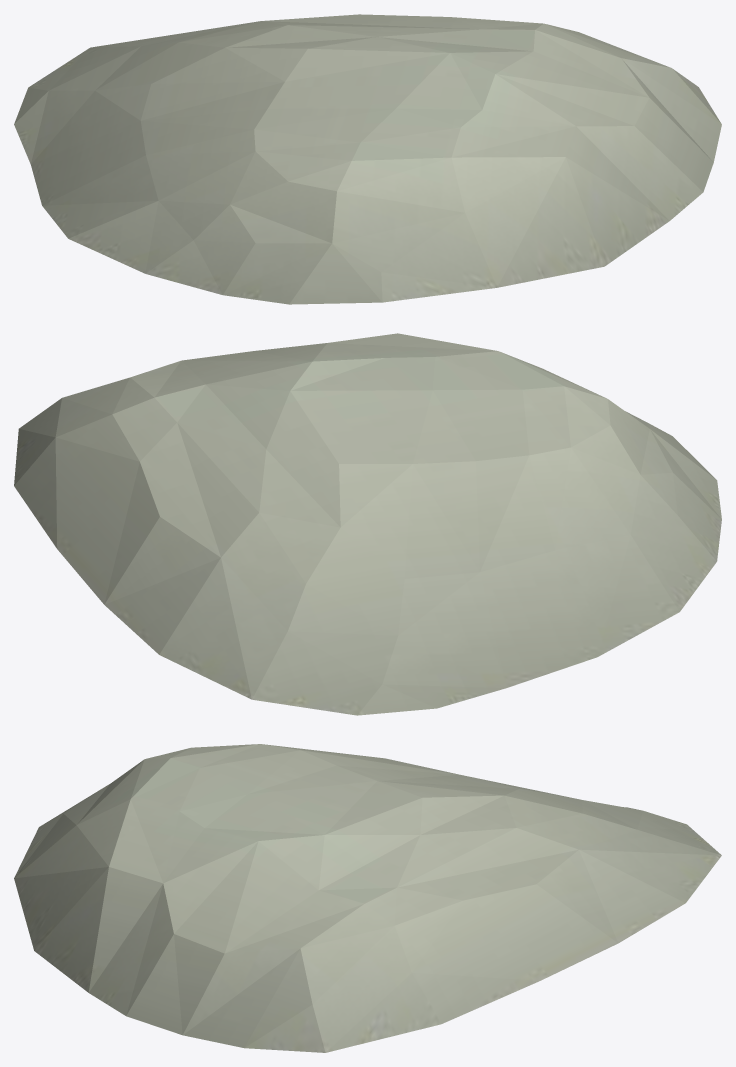
The model's file is hill_green.glb.
3 views of the same model, one above another, from view 1: azimuth 30°, elevation 25°; view 2: azimuth 150°, elevation 25°; view 3: azimuth 270°, elevation 25° (orthographic). The views are drawn at different scales.
Parts seen in each view (by area): view 1: hill_green; view 2: hill_green; view 3: hill_green.
Boxes of the visible parts, <box> form: hill_green: <box>14,14,721,304</box>; hill_green: <box>14,333,721,715</box>; hill_green: <box>14,744,721,1052</box>.
Size of the model in its own units: 20.22 by 3.65 by 19.91.
1 material, 1 textured.
